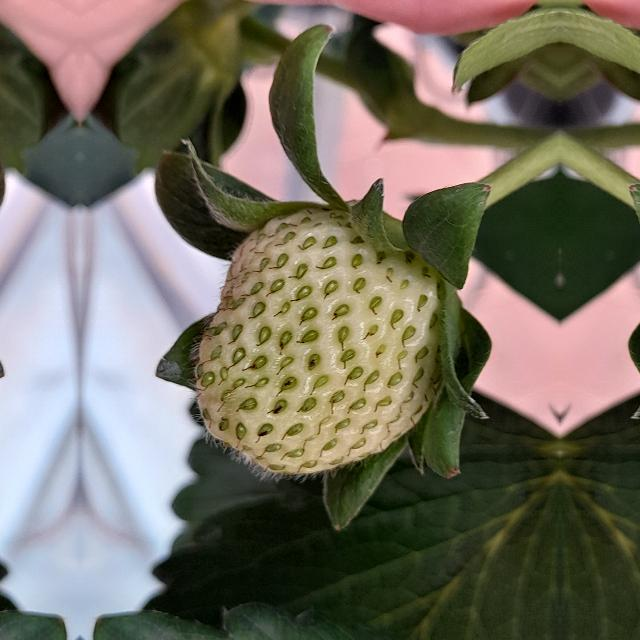Health_25: (185, 208, 445, 484)
